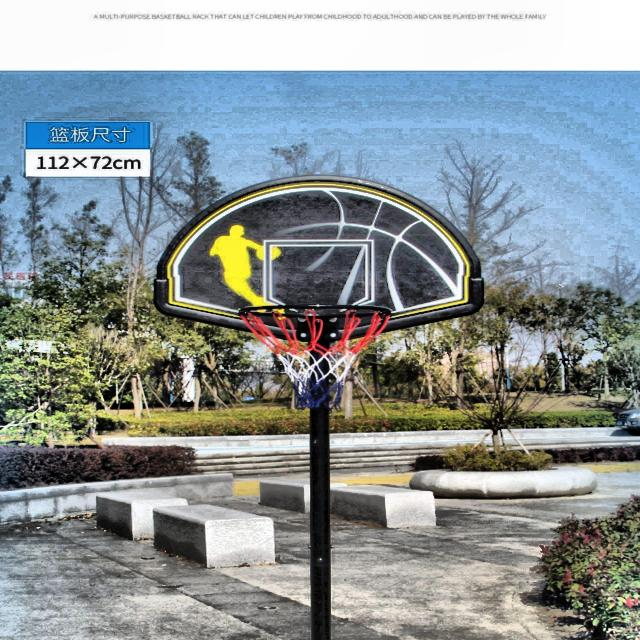rim: (237, 302, 392, 412)
